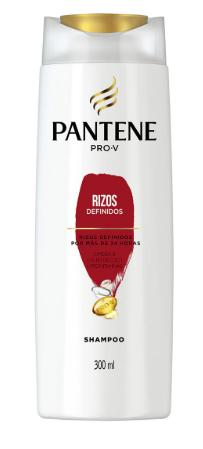brand: (44, 118, 167, 142)
extra_detail: (86, 143, 122, 152)
net_weight: (89, 352, 120, 375)
product_name: (79, 330, 130, 348)
